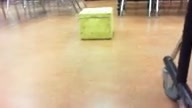cube: (78, 7, 112, 40)
